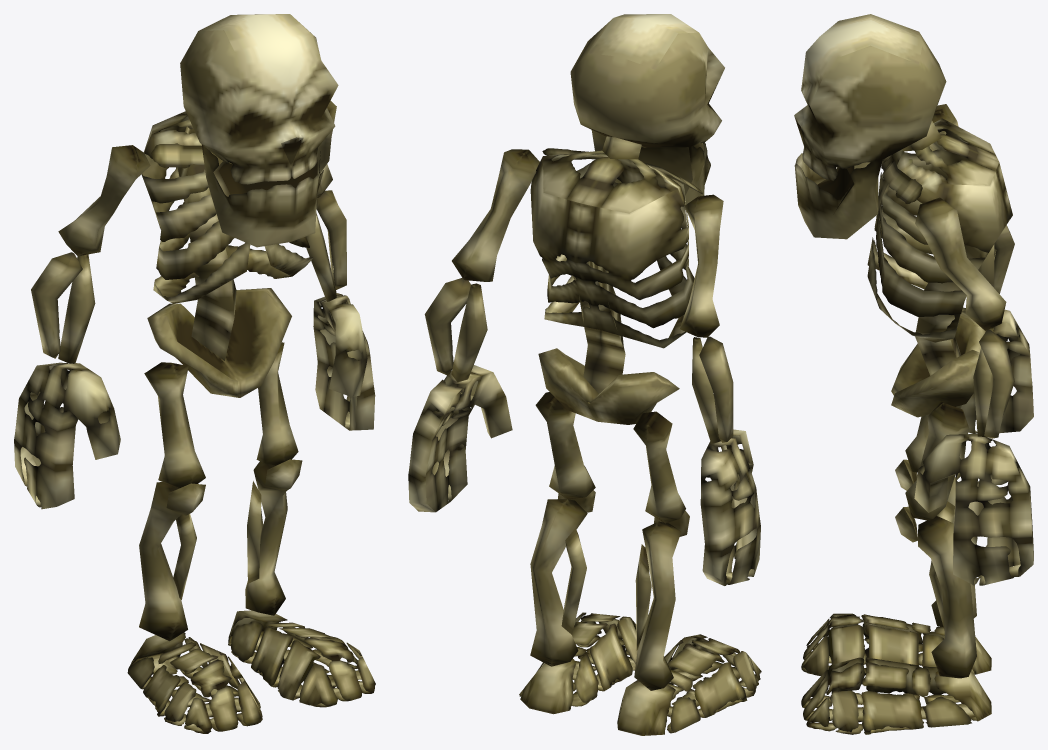
Rendered from skeleton_c57134a3.glb.
3 renders of one model, left to right at view 1: azimuth 30°, elevation 25°; view 2: azimuth 150°, elevation 25°; view 3: azimuth 270°, elevation 25°, orthographic. The views are drawn at different scales.
Bounding box in the file's own units: 0.9424 × 1.82 × 0.5959.
Materials: 1 (1 with a texture image).
